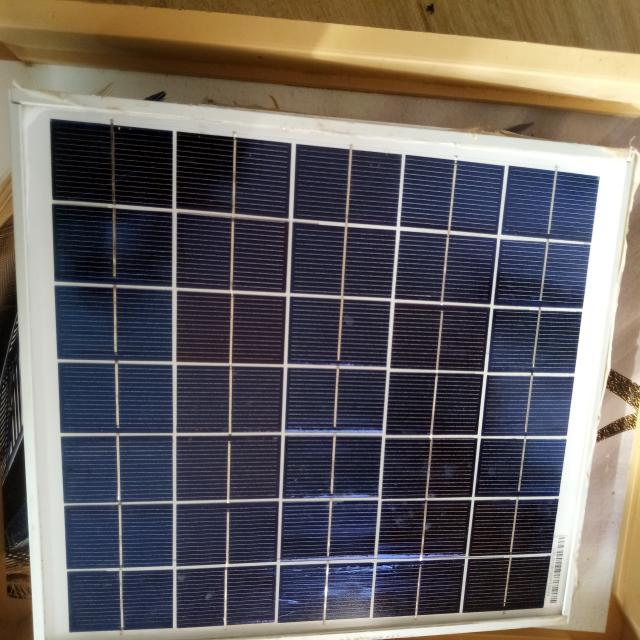no faulty: (15, 101, 635, 640)
